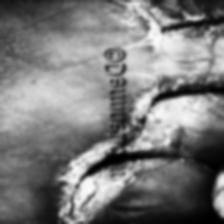Toxin: (58, 154, 160, 224), (124, 0, 218, 47), (126, 94, 178, 153), (148, 71, 220, 90)
